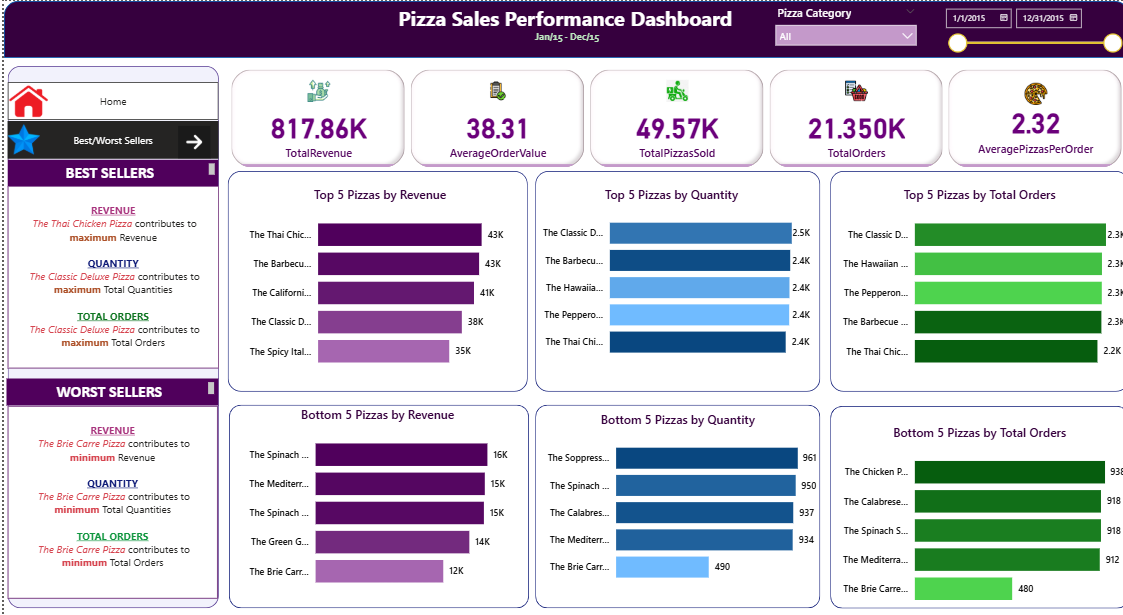

The dashboard page shown, as its layout file describes it:
{"tool":"powerbi","page":{"name":"Best/Worst Sellers","canvas":[1500,820],"ordinal":1},"visuals":[{"type":"cardVisual","fields":{"Data":["pizza_sales.TotalRevenue","pizza_sales.AverageOrderValue","pizza_sales.TotalPizzasSold","pizza_sales.TotalOrders","pizza_sales.AveragePizzasPerOrder"]},"box":[298.3,87.3,1201.7,140],"z":0},{"type":"shape","box":[0,0,1500,75.7],"z":1000},{"type":"textbox","box":[500,0,496.7,46.7],"z":2000},{"type":"textbox","box":[692.5,32.5,115,30],"z":3000},{"type":"shape","box":[298.6,227.1,400,294.3],"z":4000},{"type":"shape","box":[4.3,87.1,281.4,722.9],"z":5000},{"type":"textbox","box":[4.4,211.1,281.1,35.6],"z":6000},{"type":"textbox","box":[4.3,247.1,281.4,242.9],"z":7000},{"type":"textbox","box":[4,504,282,36],"z":8000},{"type":"textbox","box":[5.7,540,280,257.1],"z":9000},{"type":"slicer","fields":{"Values":["pizza_sales.pizza_category"]},"box":[1017.5,0,208.8,61.2],"z":10000},{"type":"slicer","fields":{"Values":["pizza_sales.order_date"]},"box":[1243.8,0,256.2,76.2],"z":11000},{"type":"shape","box":[708.6,227.1,380,294.3],"z":12000},{"type":"shape","box":[1101.4,227.1,398.6,294.3],"z":13000},{"type":"shape","box":[300,538.6,400,271.4],"z":14000},{"type":"shape","box":[708.6,538.6,380,271.4],"z":15000},{"type":"shape","box":[1101.4,540,398.6,270],"z":16000},{"type":"barChart","title":"Top 5 Pizzas by Revenue","fields":{"Category":["pizza_sales.pizza_name"],"Y":["pizza_sales.TotalRevenue"]},"box":[310,247.1,382.9,257.1],"z":17000},{"type":"barChart","title":"Bottom 5 Pizzas by Revenue","fields":{"Category":["pizza_sales.pizza_name"],"Y":["pizza_sales.TotalRevenue"]},"box":[307.1,540,382.9,257.1],"z":18000},{"type":"barChart","title":"Top 5 Pizzas by Quantity","fields":{"Category":["pizza_sales.pizza_name"],"Y":["pizza_sales.TotalPizzasSold"]},"box":[700,247.1,380,242.9],"z":19000},{"type":"barChart","title":"Bottom 5 Pizzas by Quantity","fields":{"Category":["pizza_sales.pizza_name"],"Y":["pizza_sales.TotalPizzasSold"]},"box":[708.6,547.1,380,242.9],"z":20000},{"type":"barChart","title":"Top 5 Pizzas by Total Orders","fields":{"Category":["pizza_sales.pizza_name"],"Y":["pizza_sales.TotalOrders"]},"box":[1101.4,247.1,398.6,257.1],"z":21000},{"type":"barChart","title":"Bottom 5 Pizzas by Total Orders","fields":{"Category":["pizza_sales.pizza_name"],"Y":["pizza_sales.TotalOrders"]},"box":[1101.4,562.9,398.6,257.1],"z":22000},{"type":"pageNavigator","box":[4.4,107.8,281.1,50],"z":23000},{"type":"pageNavigator","box":[4.4,160,281.1,50],"z":24000},{"type":"image","box":[222.2,161.1,63.3,53.3],"z":25000},{"type":"image","box":[0,98.9,65.6,65.6],"z":26000},{"type":"image","box":[0,157.8,53.3,52.2],"z":27000}]}

Visuals, with their boxes on the page's 1500x820 design canvas (x1, y1, x2, y2). These are canvas units, not pixel positions in the 1123x615 screenshot, which may show the page scaled, cropped or inside an application window:
cardVisual - pizza_sales.TotalRevenue x pizza_sales.AverageOrderValue: l=298, t=87, r=1500, b=227
shape: l=0, t=0, r=1500, b=76
textbox: l=500, t=0, r=997, b=47
textbox: l=692, t=32, r=808, b=62
shape: l=299, t=227, r=699, b=521
shape: l=4, t=87, r=286, b=810
textbox: l=4, t=211, r=286, b=247
textbox: l=4, t=247, r=286, b=490
textbox: l=4, t=504, r=286, b=540
textbox: l=6, t=540, r=286, b=797
slicer - pizza_sales.pizza_category: l=1018, t=0, r=1226, b=61
slicer - pizza_sales.order_date: l=1244, t=0, r=1500, b=76
shape: l=709, t=227, r=1089, b=521
shape: l=1101, t=227, r=1500, b=521
shape: l=300, t=539, r=700, b=810
shape: l=709, t=539, r=1089, b=810
shape: l=1101, t=540, r=1500, b=810
"Top 5 Pizzas by Revenue" barChart: l=310, t=247, r=693, b=504
"Bottom 5 Pizzas by Revenue" barChart: l=307, t=540, r=690, b=797
"Top 5 Pizzas by Quantity" barChart: l=700, t=247, r=1080, b=490
"Bottom 5 Pizzas by Quantity" barChart: l=709, t=547, r=1089, b=790
"Top 5 Pizzas by Total Orders" barChart: l=1101, t=247, r=1500, b=504
"Bottom 5 Pizzas by Total Orders" barChart: l=1101, t=563, r=1500, b=820
pageNavigator: l=4, t=108, r=286, b=158
pageNavigator: l=4, t=160, r=286, b=210
image: l=222, t=161, r=286, b=214
image: l=0, t=99, r=66, b=164
image: l=0, t=158, r=53, b=210
